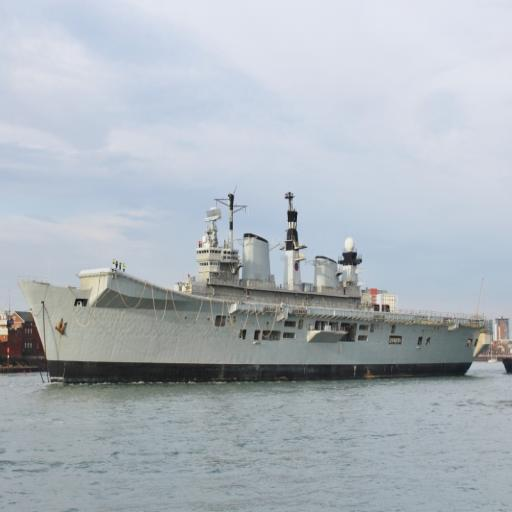Portanaves: (18, 178, 488, 380)
